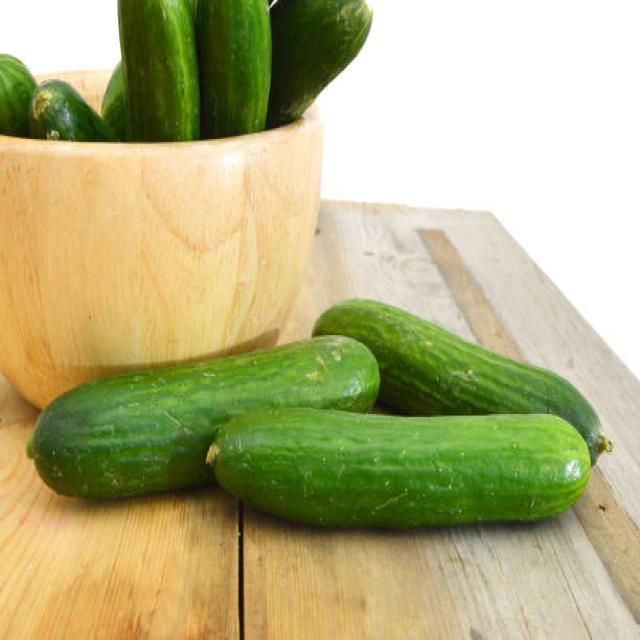cucumber: (29, 333, 380, 504), (213, 406, 590, 528)
